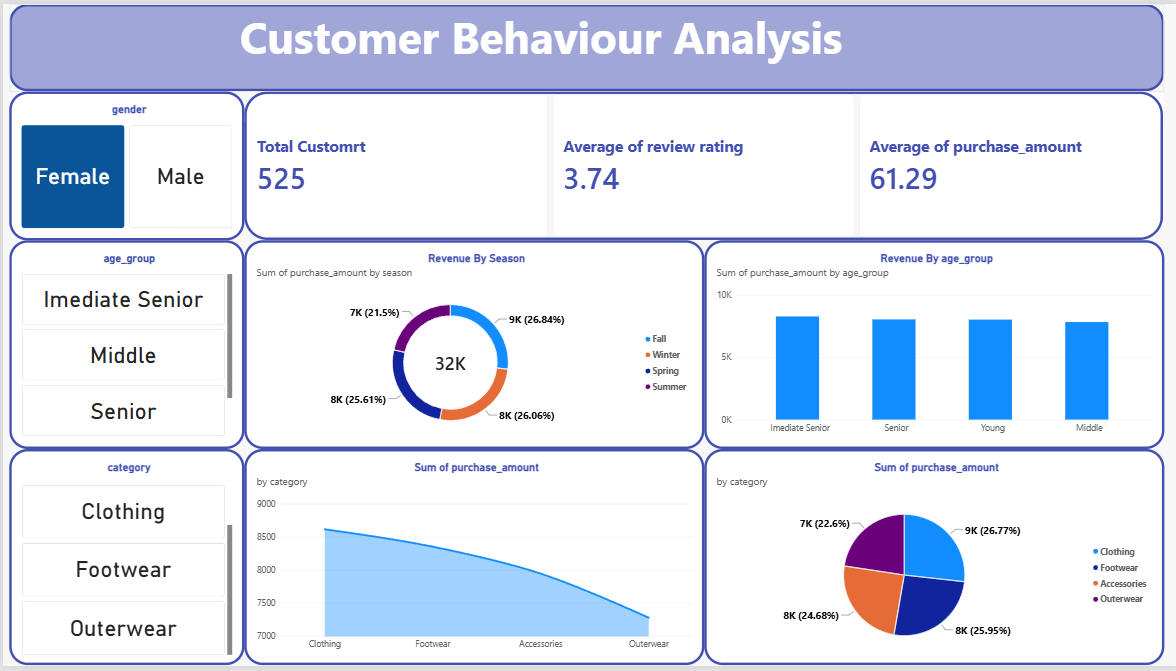

This screenshot's page, from the dashboard's own definition file:
{"tool":"powerbi","page":{"name":"Page 1","canvas":[1920,1080],"ordinal":0},"visuals":[{"type":"textbox","box":[10.3,0,1885.4,142],"z":0},{"type":"cardVisual","fields":{"Data":["CountNonNull(mydb customers.age)","Avg(mydb customers.review rating)","Avg(mydb customers.purchase_amount)"]},"box":[393.9,142.9,1502,242.9],"z":1000},{"type":"donutChart","title":"Revenue By Season","fields":{"Category":["mydb customers.season"],"Y":["Sum(mydb customers.purchase_amount)"]},"box":[393.9,385.7,751,340.8],"z":2000},{"type":"columnChart","title":"Revenue By age_group","fields":{"Category":["mydb customers.age_group"],"Y":["Sum(mydb customers.purchase_amount)"]},"box":[1144.9,385.7,751,340.8],"z":3000},{"type":"areaChart","fields":{"Category":["mydb customers.category"],"Y":["Sum(mydb customers.purchase_amount)"]},"box":[393.9,726.5,751,353.1],"z":4000},{"type":"pieChart","fields":{"Category":["mydb customers.category"],"Y":["Sum(mydb customers.purchase_amount)"]},"box":[1144.9,726.5,751,353.1],"z":5000},{"type":"advancedSlicerVisual","fields":{"Values":["mydb customers.gender"]},"box":[10,143,384,243],"z":6000},{"type":"advancedSlicerVisual","fields":{"Values":["mydb customers.age_group"]},"box":[10,386,384,341],"z":7000},{"type":"advancedSlicerVisual","fields":{"Values":["mydb customers.category"]},"box":[10,727,384,353],"z":8000}]}

Visuals, with their boxes in screenshot pixels (x1, y1, x2, y2), scaled from the page's 1920x1080 canvas onto the 1176x671 screenshot:
textbox: x1=6 y1=0 x2=1161 y2=88
cardVisual - CountNonNull(mydb customers.age) x Avg(mydb customers.review rating): x1=241 y1=89 x2=1161 y2=240
"Revenue By Season" donutChart: x1=241 y1=240 x2=701 y2=451
"Revenue By age_group" columnChart: x1=701 y1=240 x2=1161 y2=451
areaChart - mydb customers.category x Sum(mydb customers.purchase_amount): x1=241 y1=451 x2=701 y2=670
pieChart - mydb customers.category x Sum(mydb customers.purchase_amount): x1=701 y1=451 x2=1161 y2=670
advancedSlicerVisual - mydb customers.gender: x1=6 y1=89 x2=241 y2=240
advancedSlicerVisual - mydb customers.age_group: x1=6 y1=240 x2=241 y2=452
advancedSlicerVisual - mydb customers.category: x1=6 y1=452 x2=241 y2=670
